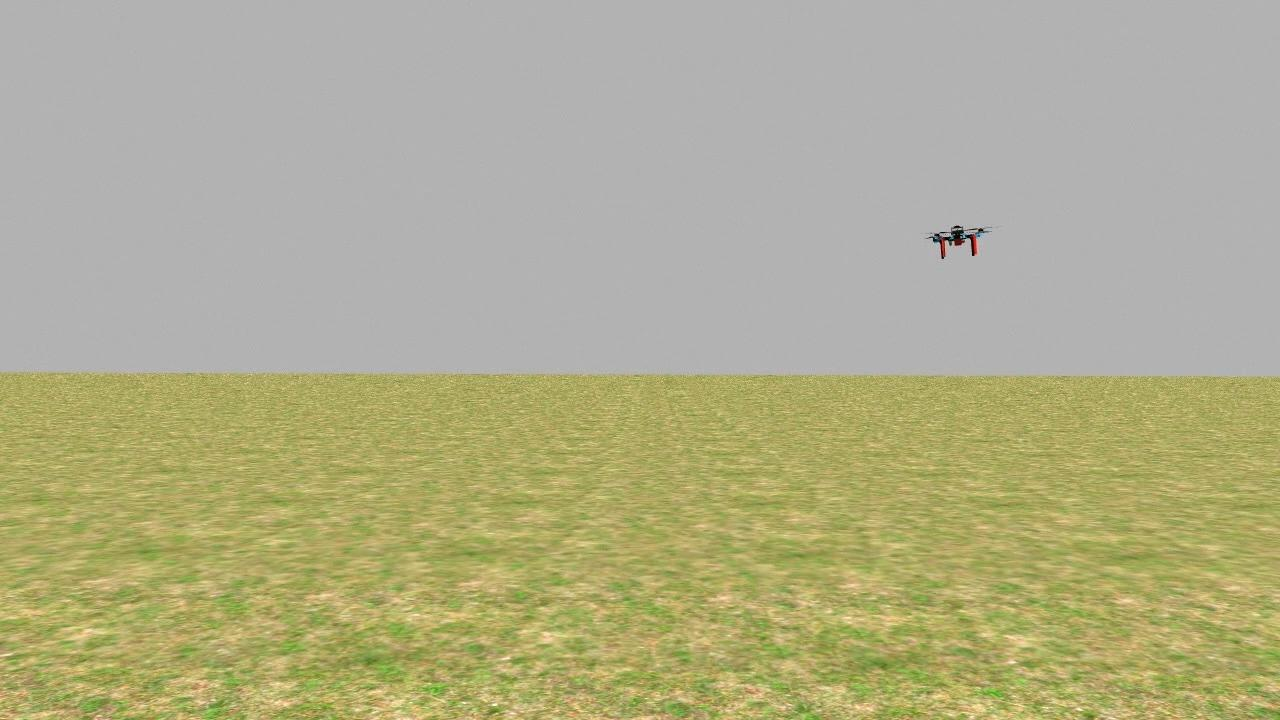UAV: (915, 214, 999, 264)
